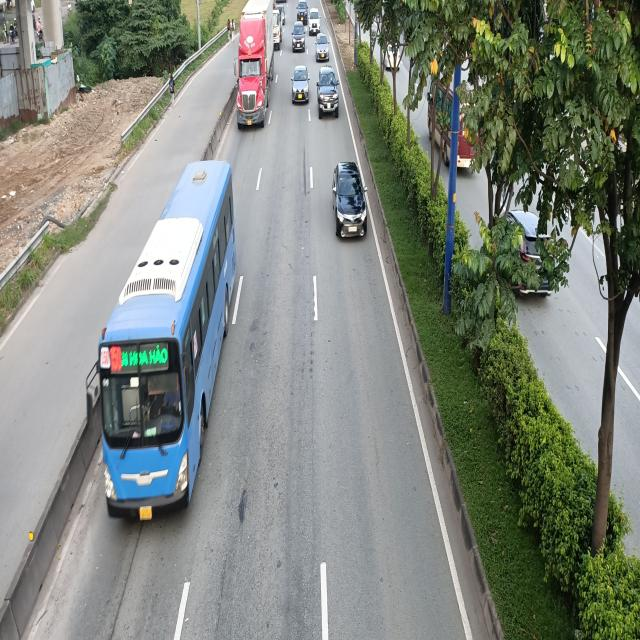car: (332, 161, 368, 239), (316, 65, 339, 115), (291, 65, 310, 102), (292, 19, 306, 52), (316, 33, 330, 62), (308, 8, 321, 34), (296, 1, 308, 24)
coach: (98, 160, 236, 520)
container: (233, 0, 275, 129)
truck: (273, 6, 284, 46)
